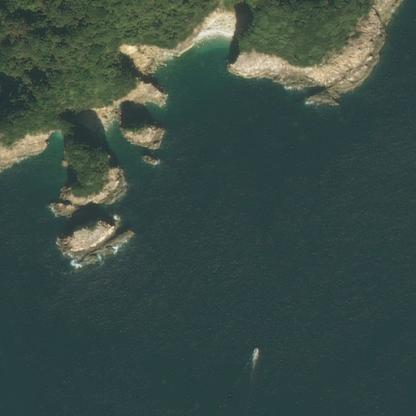ship: (242, 342, 264, 359)
